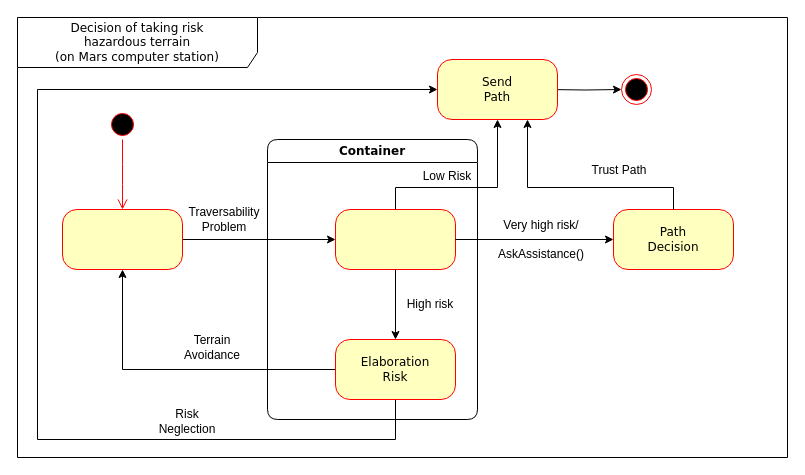
This 805x475 diagram has some shape labels left out. The centre of each missing label's shape, as x and y in pixels:
Generate Path: the point at 122,239
Traversability Algorithm: the point at 395,239
